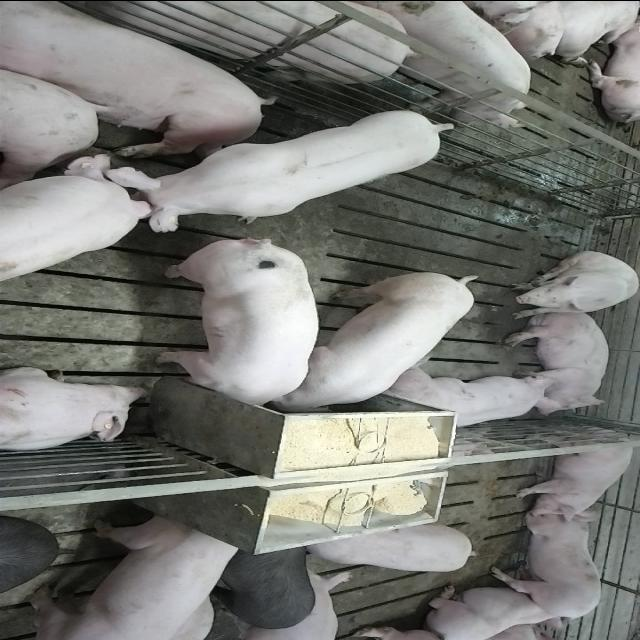Feeding: (272, 266, 480, 412), (153, 242, 319, 416)
Lateral_lying: (0, 4, 273, 158), (500, 308, 612, 418)
Sitting: (503, 250, 637, 314)
Standing: (111, 104, 454, 230), (70, 0, 420, 86), (17, 515, 245, 639), (360, 0, 538, 123), (0, 147, 154, 281), (492, 508, 608, 620), (510, 430, 636, 520), (308, 523, 481, 576), (215, 545, 317, 629)
Sternal_lying: (0, 365, 150, 453), (377, 367, 557, 431), (426, 583, 564, 639)
